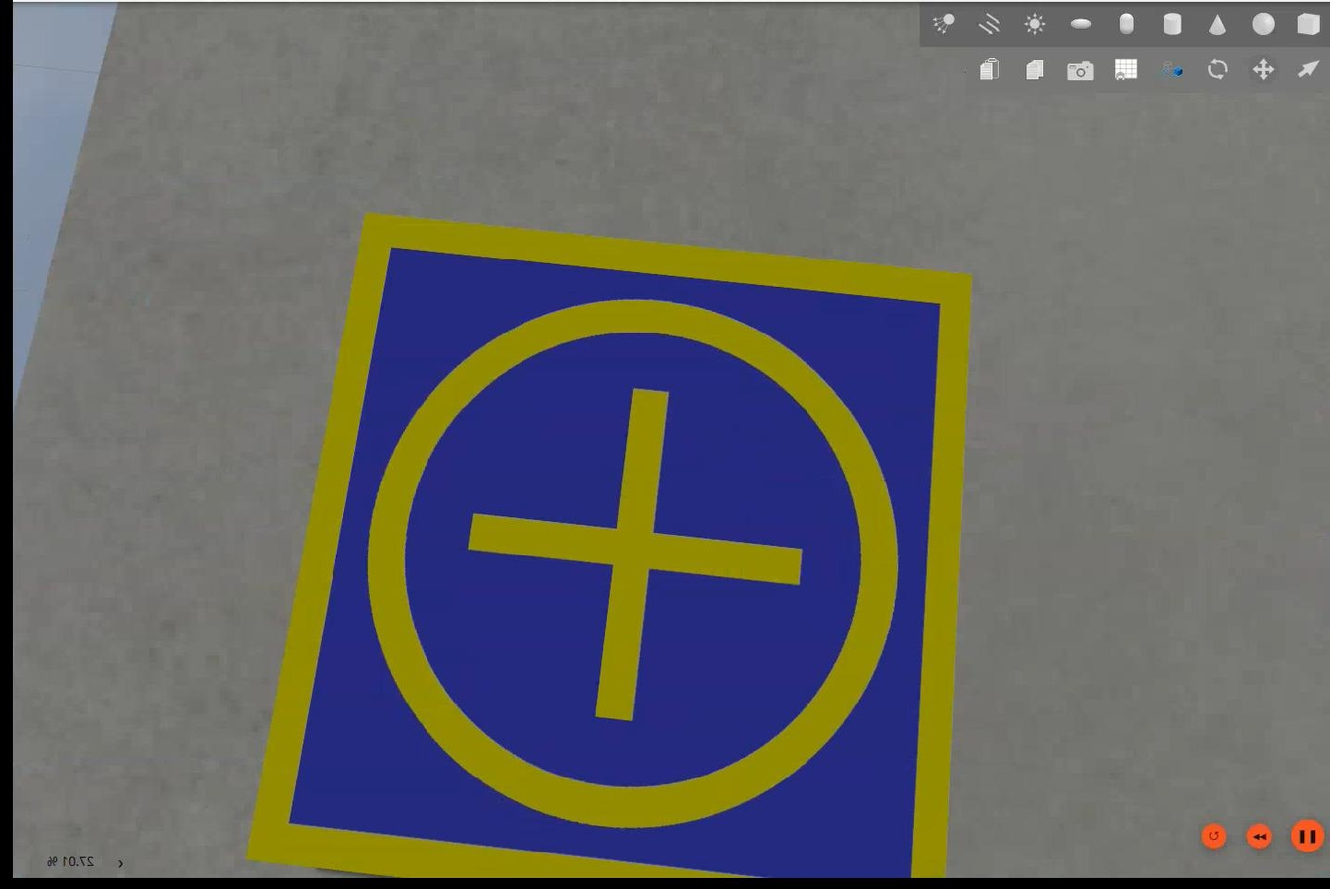small_base: (242, 213, 968, 879)
